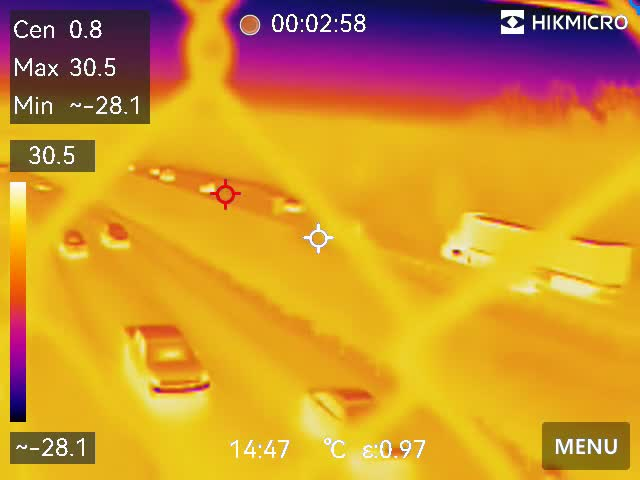heavyTruck: (434, 211, 628, 297)
lightTruck: (116, 322, 210, 404)
vehicle: (296, 378, 410, 461), (94, 220, 133, 250), (54, 228, 86, 255), (277, 195, 306, 210), (194, 180, 217, 195)
